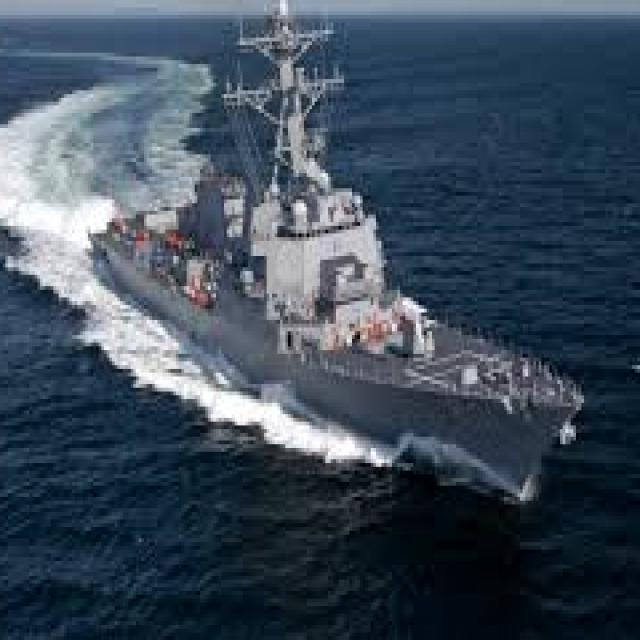navalvessels: (75, 0, 574, 523)
